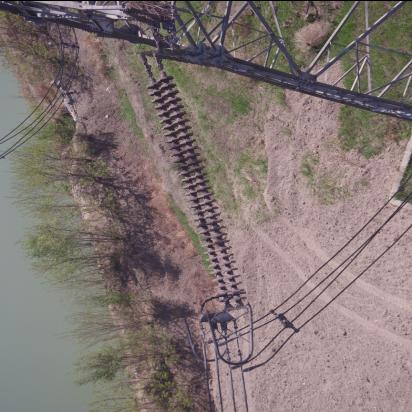insulator: (146, 45, 240, 317)
